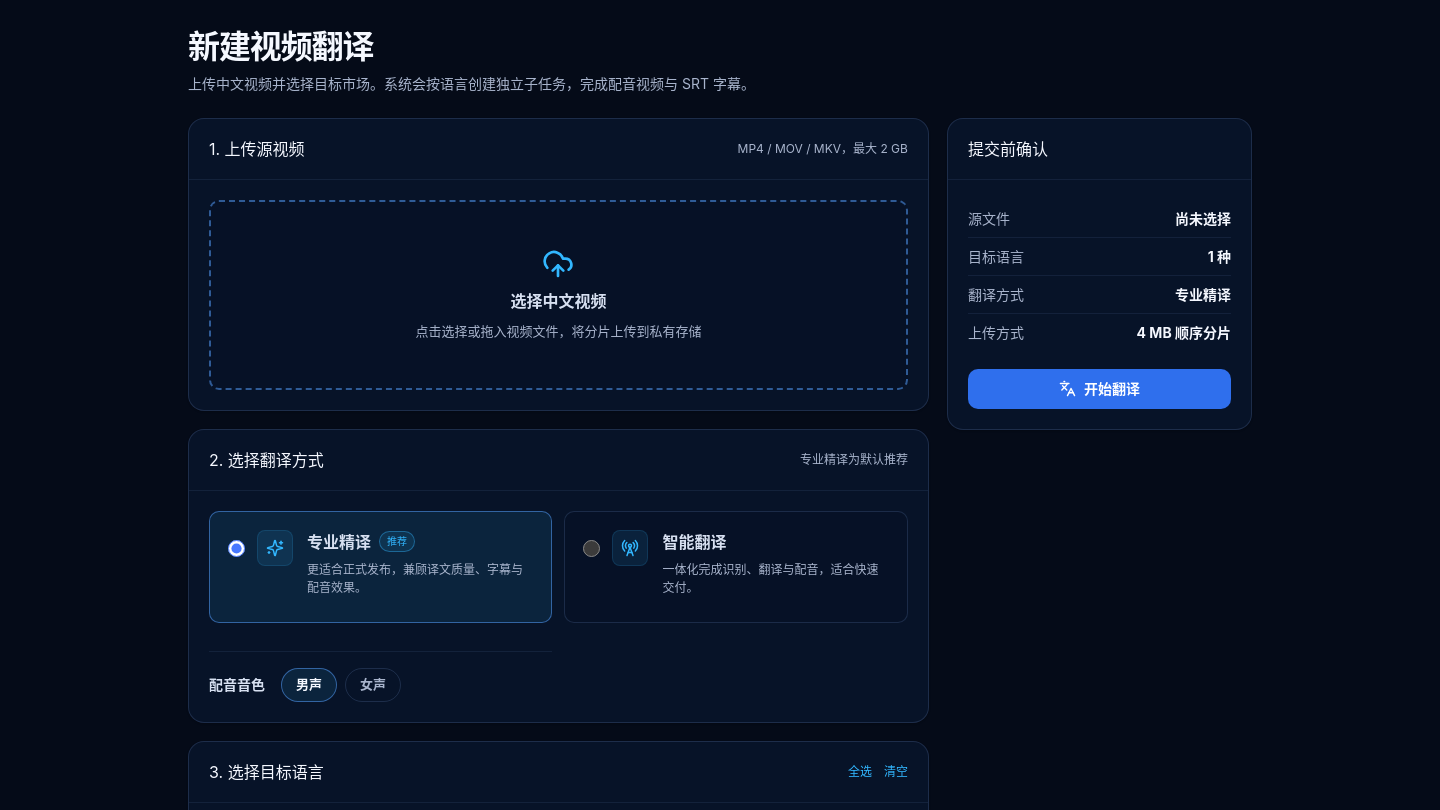
Test: NewTranslationView 字段级校验 › 全选选中当前翻译方式支持的全部语言，清空后交付文案提示先选语言
Click the button with class "link-button" showing "全选" at (860,772), box x1=848 y1=763 x2=872 y2=781
(page scrolled)
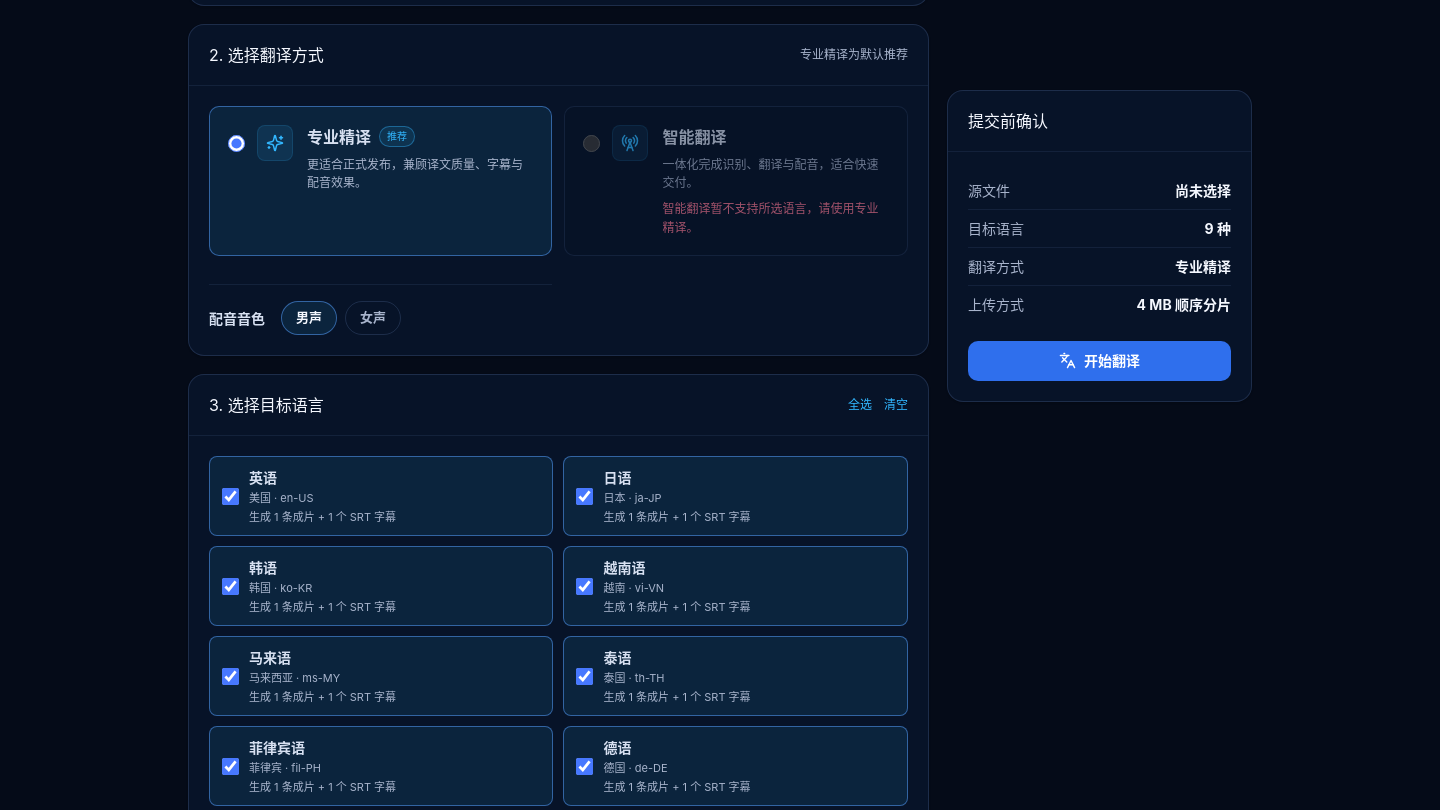
Click the button with class "link-button" showing "清空" at (896,405), box x1=884 y1=396 x2=908 y2=414
(page scrolled)
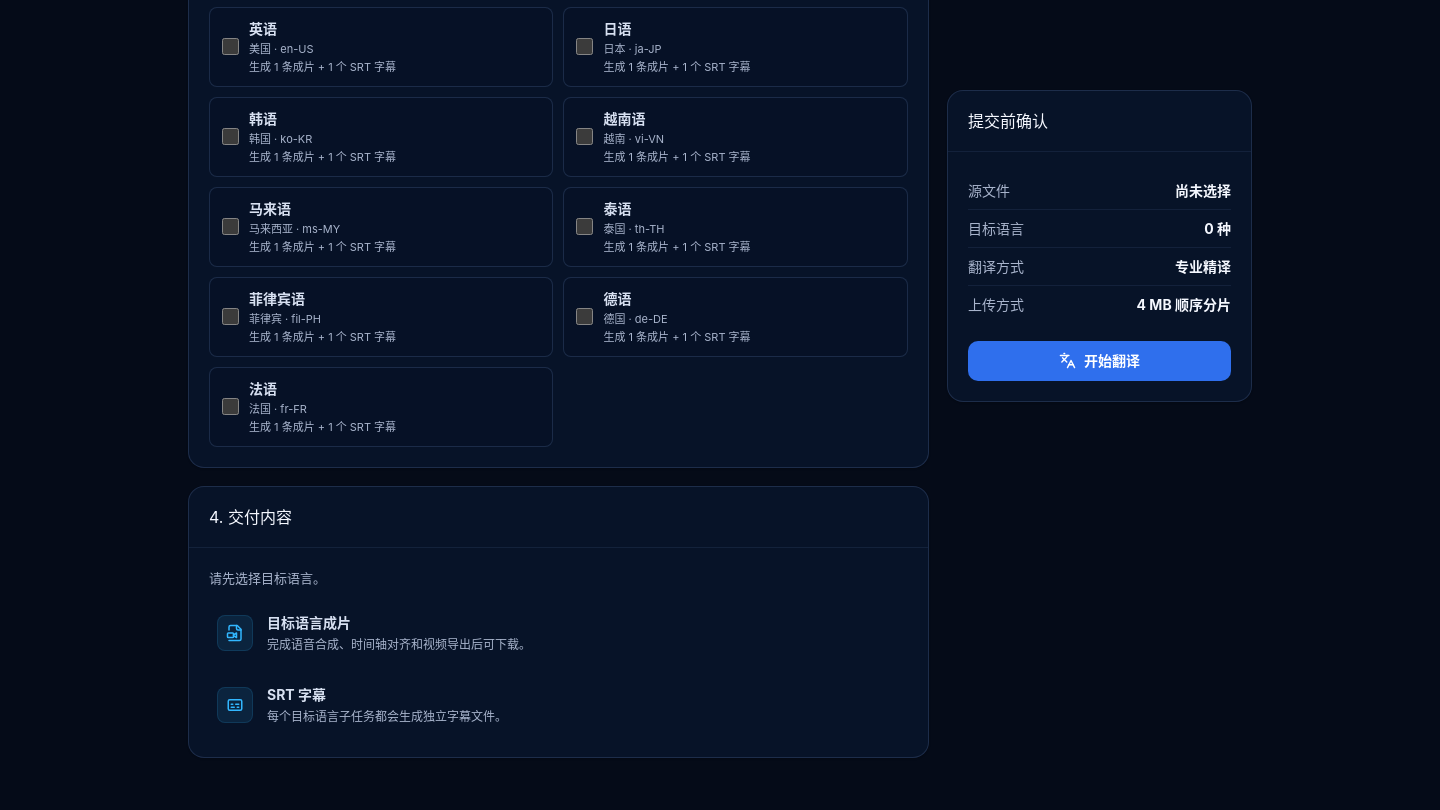
Check: the text with test id "delivery-summary" reads "请先选择目标语言。", box x1=209 y1=570 x2=326 y2=586
